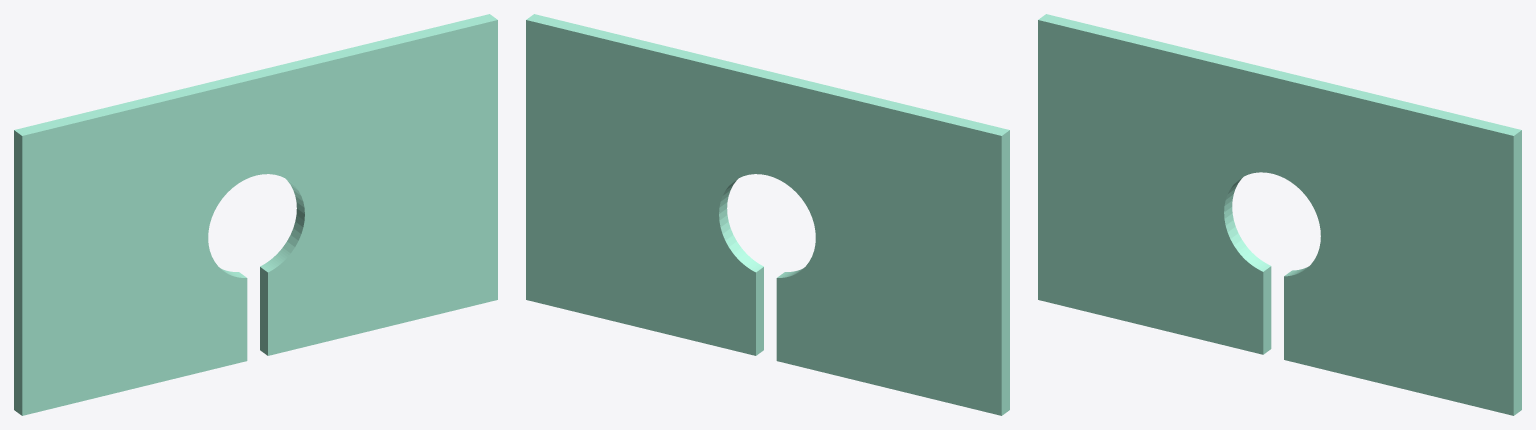
Rendered from HoleWithLeg.fbx.
The picture shows the model from 3 angles, left to right: view 1: azimuth 30°, elevation 25°; view 2: azimuth 150°, elevation 25°; view 3: azimuth 330°, elevation 25°; orthographic projection.
Parts seen in each view (by area): view 1: Curve; view 2: Curve; view 3: Curve.
Part boxes in pixels (x1,y1,x2,y2): Curve: [14, 14, 497, 415]; Curve: [526, 14, 1009, 415]; Curve: [1038, 14, 1521, 415].
Bounding box in the file's own units: 677 × 381 × 20.
